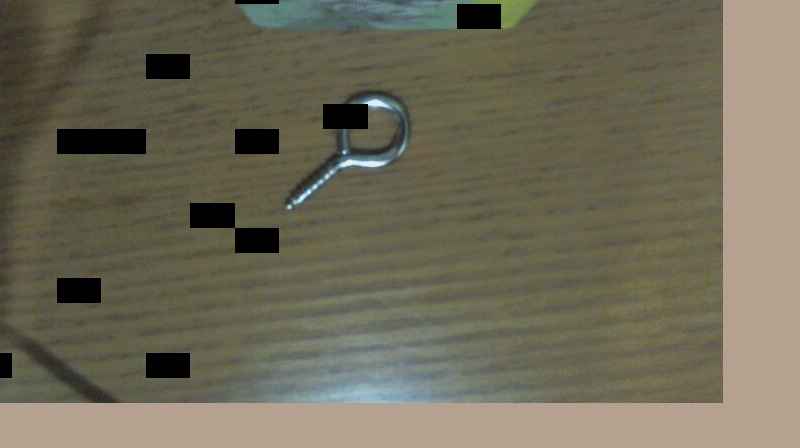O001: (282, 86, 417, 216)
